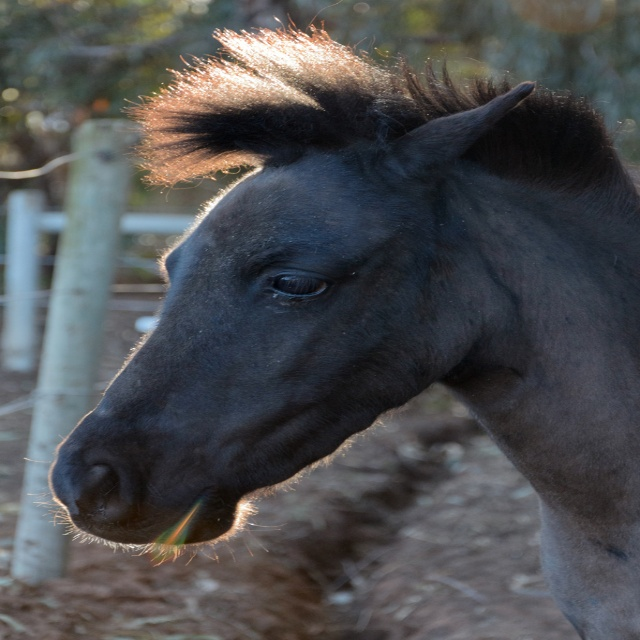Horse: (17, 14, 639, 640)
